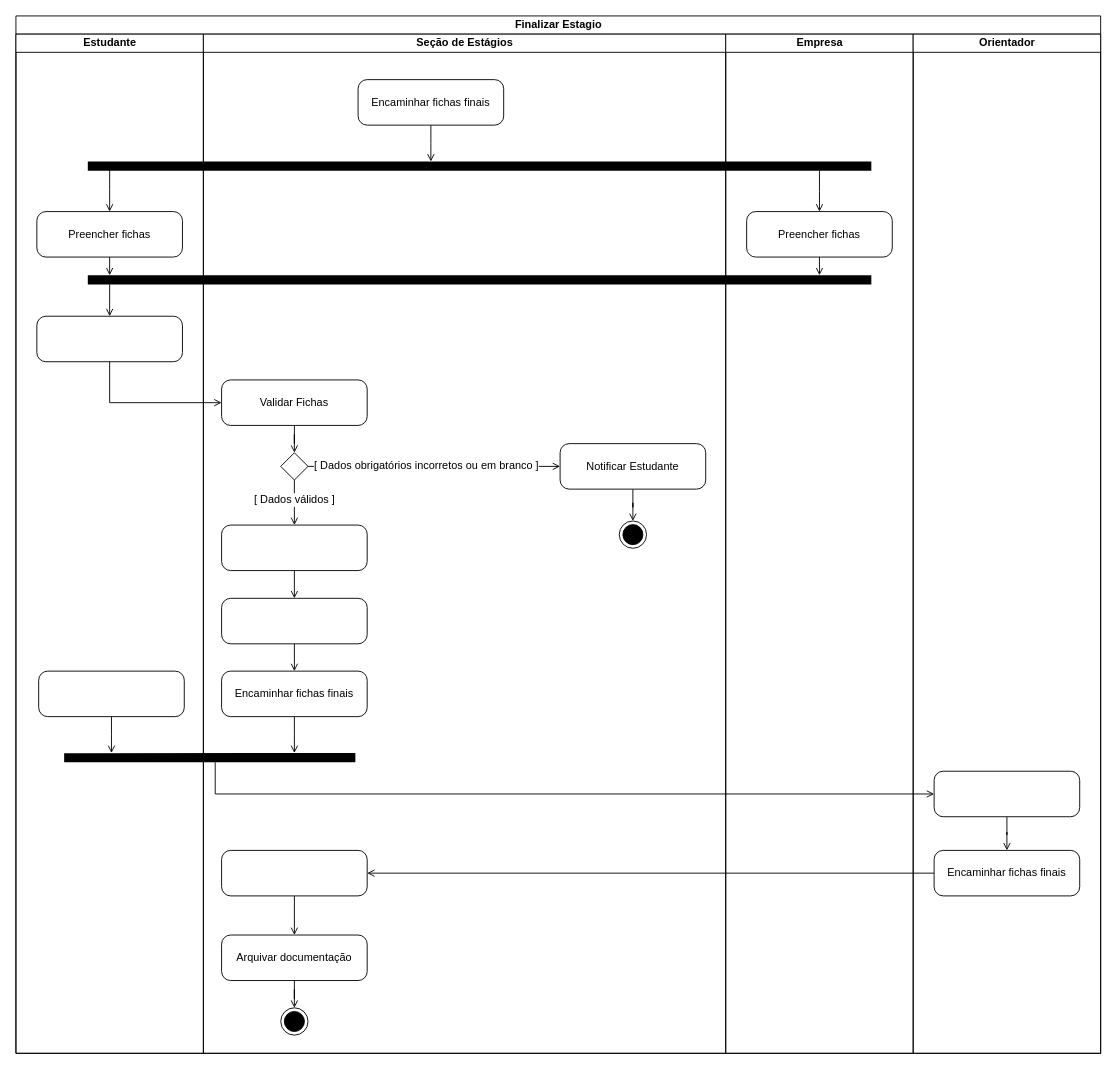
Some shapes in this 1117 by 1069 pixel diagram are drawn without their labels. Here are the shapes that lost their labels. From the top down, the centre of each, then its label:
the point at 109,338: Encaminhar fichas
the point at 294,547: Finalizar contrato
the point at 294,620: Notificar finalização
the point at 111,693: Apresentar relatório
the point at 1006,793: Emitir notas
the point at 294,872: Lançar nota final
